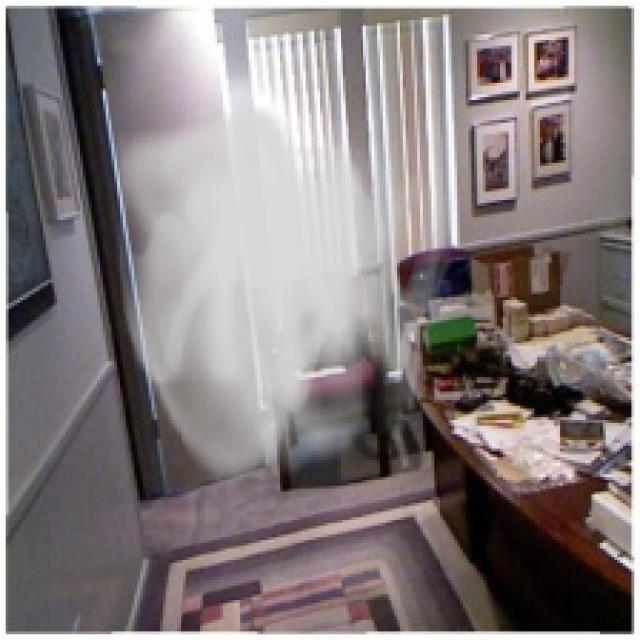smoke: (106, 100, 460, 494)
